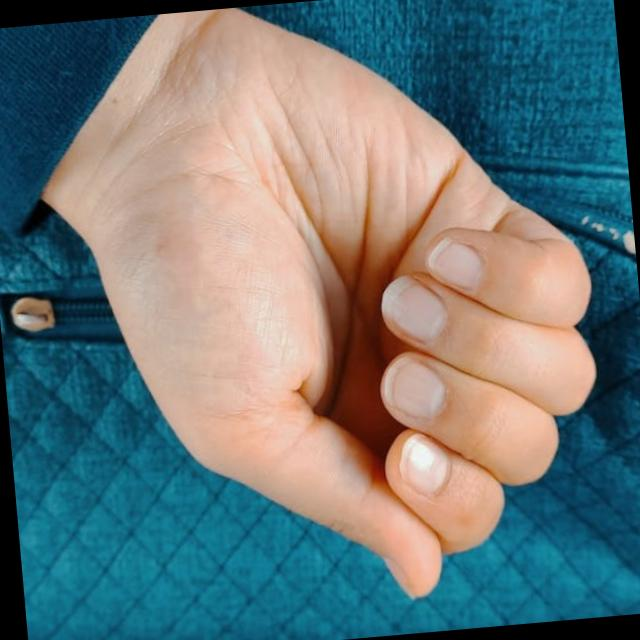Nail: (381, 275, 444, 343), (380, 353, 445, 418), (397, 433, 449, 492), (427, 237, 482, 289), (377, 555, 414, 599)
